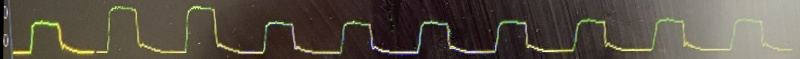normal_pressure: (6, 10, 800, 59)
